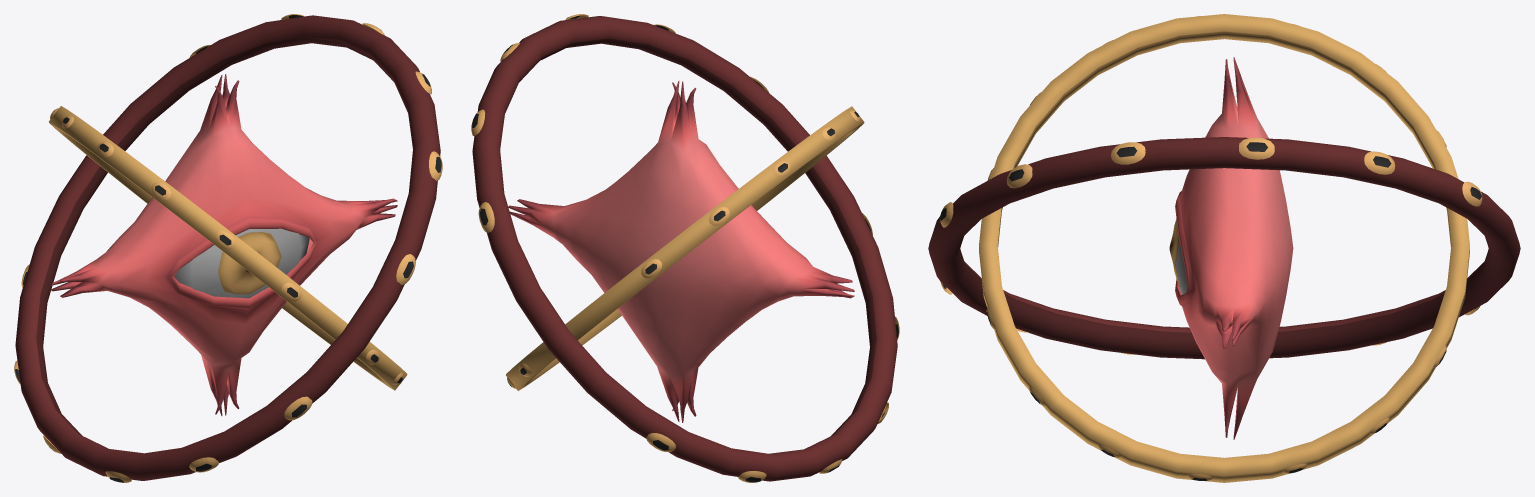
Rendered from MS_Boss03_Default01.fbx.
3 renders of one model, left to right at view 1: azimuth 30°, elevation 25°; view 2: azimuth 150°, elevation 25°; view 3: azimuth 270°, elevation 25°, orthographic. The views are drawn at different scales.
Parts seen in each view (by area): view 1: Torus_Outside, MS_Boss03_Default01, Torus_Inside, EyeBall; view 2: Torus_Outside, MS_Boss03_Default01, Torus_Inside; view 3: Torus_Outside, Torus_Inside, MS_Boss03_Default01, EyeBall.
Boxes of the visible parts, x1,y1,x2,y2 form: Torus_Outside: [14, 14, 442, 482]; MS_Boss03_Default01: [51, 74, 397, 415]; Torus_Inside: [49, 106, 407, 390]; EyeBall: [174, 228, 309, 298]; Torus_Outside: [471, 14, 899, 482]; MS_Boss03_Default01: [508, 81, 854, 422]; Torus_Inside: [506, 106, 864, 390]; Torus_Outside: [928, 137, 1520, 359]; Torus_Inside: [979, 14, 1469, 482]; MS_Boss03_Default01: [1175, 57, 1293, 439]; EyeBall: [1169, 219, 1187, 294].
Bounding box in the file's own units: 577 × 554 × 763.
